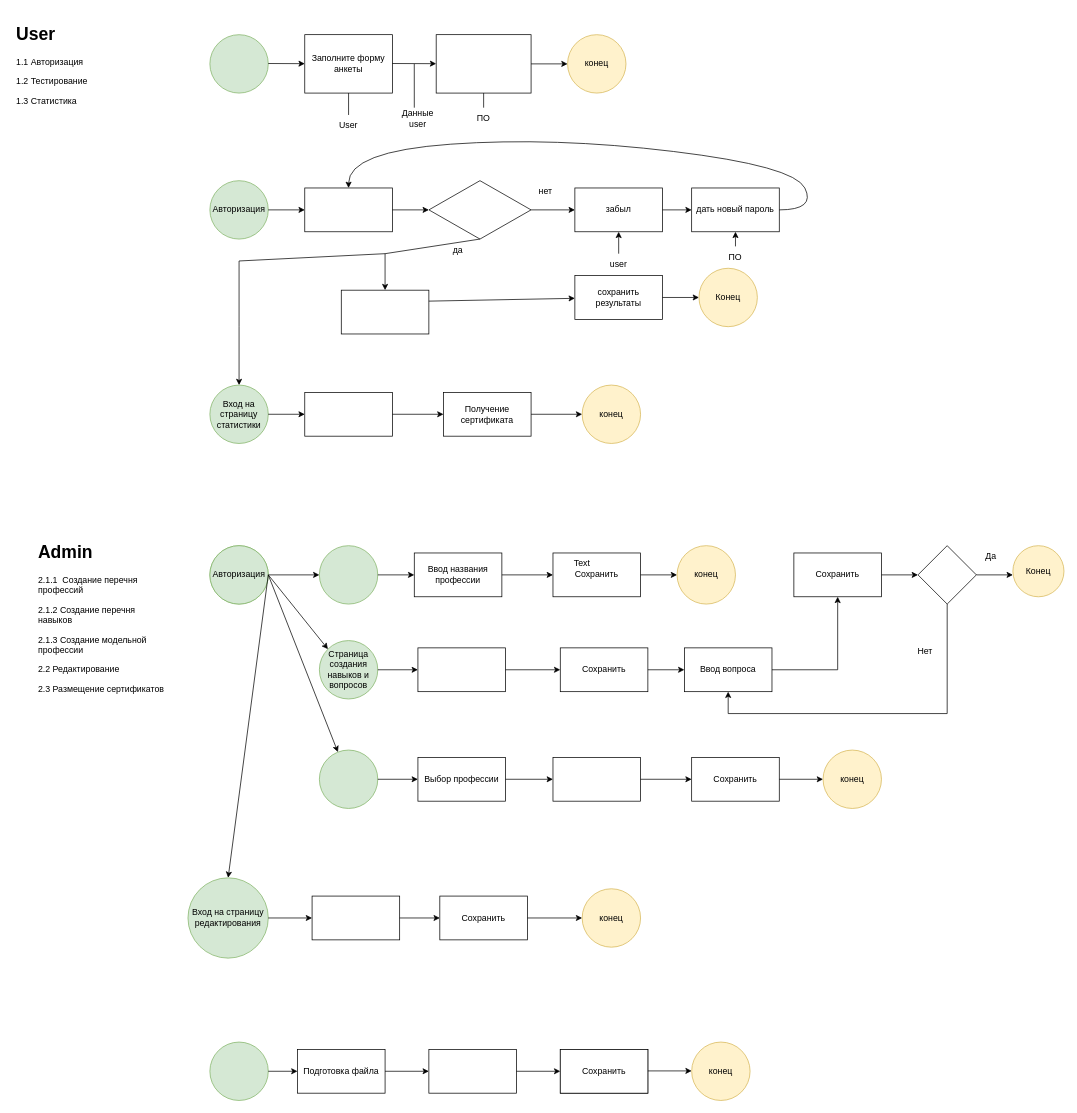
This 1077x1113 diagram has some shape labels left out. Here are the shapes that lost their labels. From the top down, the box of each, then its label:
(209, 34, 268, 93): Вход на страницу авторизации
(435, 34, 531, 93): Создать учетную запись
(304, 187, 392, 232): Ввод учетных данных
(428, 180, 531, 239): Проверка учетных данных
(341, 289, 429, 334): тестирование
(304, 392, 392, 436): Просмотр перечня тестов
(319, 545, 378, 604): Страница создания профессии
(917, 545, 976, 604): Все ?
(417, 647, 506, 692): Ввод названия навыка
(319, 749, 378, 808): Страница создания модели профессии
(552, 757, 641, 801): Заполнение баллов навыков
(311, 895, 400, 940): Редактирование
(209, 1041, 268, 1100): Вход на страницу
(428, 1049, 516, 1093): Выбор сертификата
